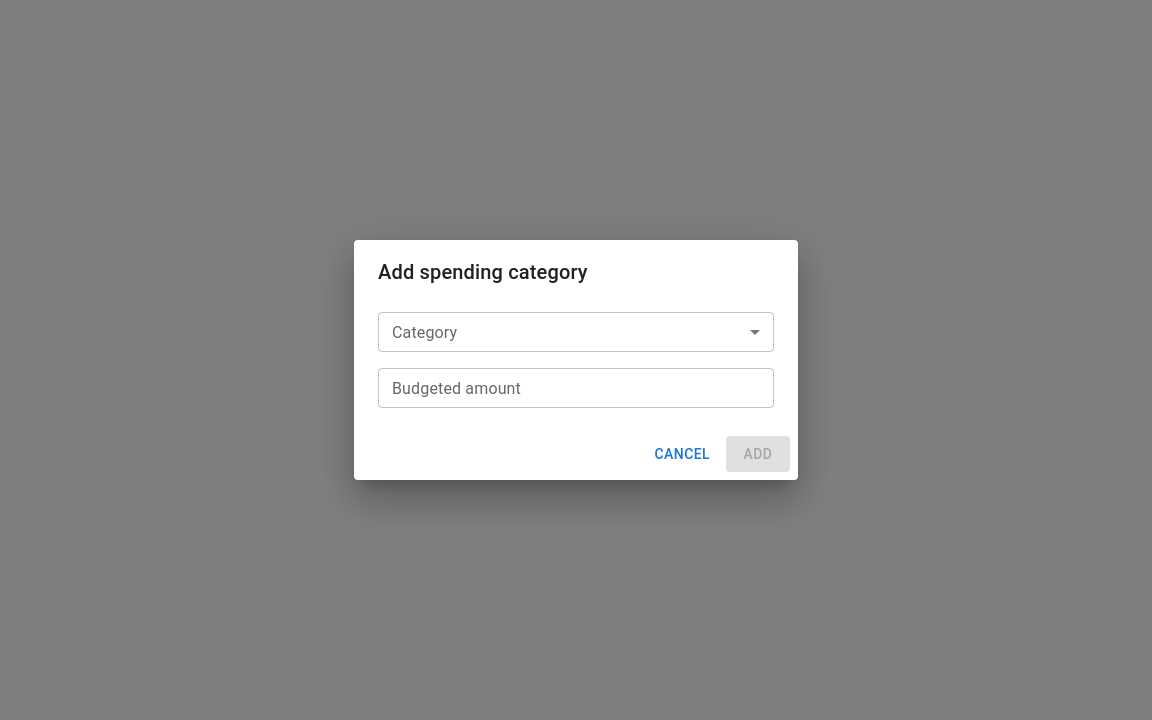
CreateBudgetLineDialog rendering › renders only categories matching categoryType (spending)
Step 1. Press the mouse on the dropdown named "category" → (576, 332), box x1=378 y1=312 x2=774 y2=352
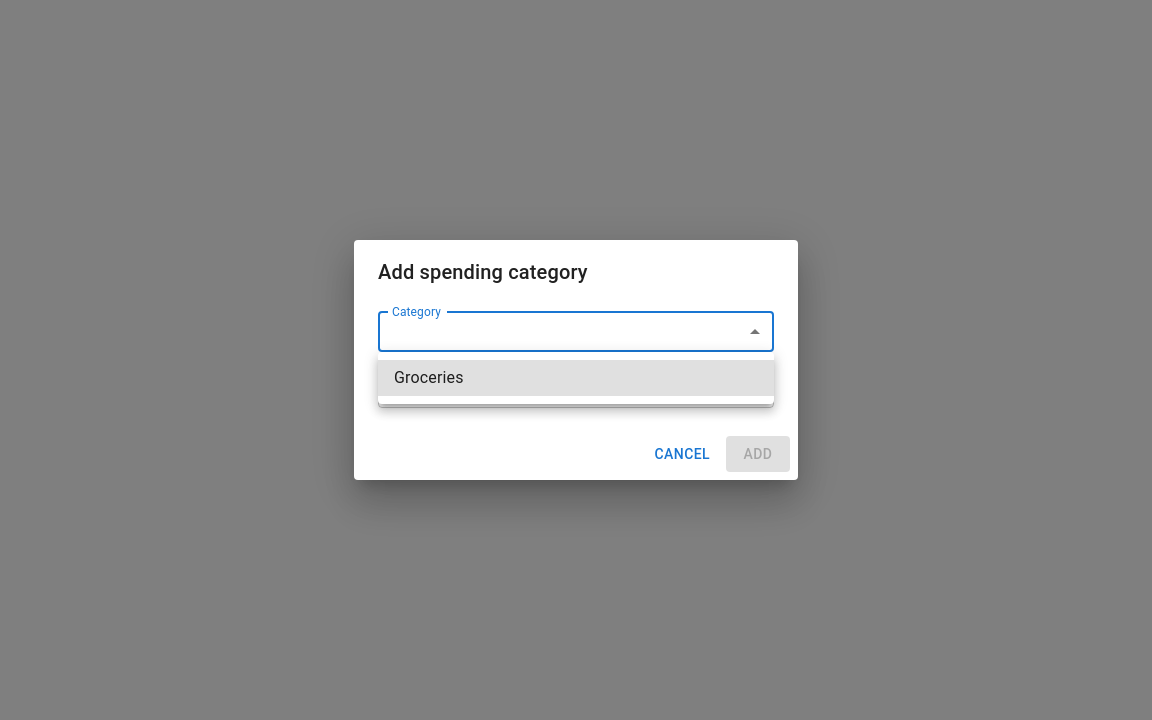
expect the option "Groceries" is shown: met, box x1=378 y1=360 x2=774 y2=396
